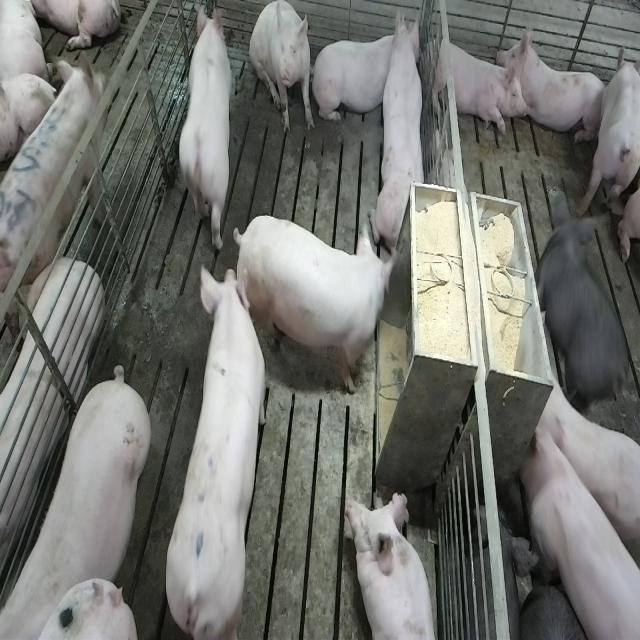Feeding: (230, 212, 393, 396)
Lateral_lying: (0, 261, 102, 580)
Sitting: (374, 12, 428, 254), (248, 2, 314, 137)
Standing: (158, 257, 265, 640), (5, 363, 155, 635), (0, 54, 107, 338), (535, 184, 637, 416), (529, 376, 638, 584), (173, 7, 233, 254), (579, 37, 640, 215)
Sternal_lying: (346, 489, 439, 640), (499, 20, 607, 145), (425, 31, 521, 138), (316, 21, 412, 124)
